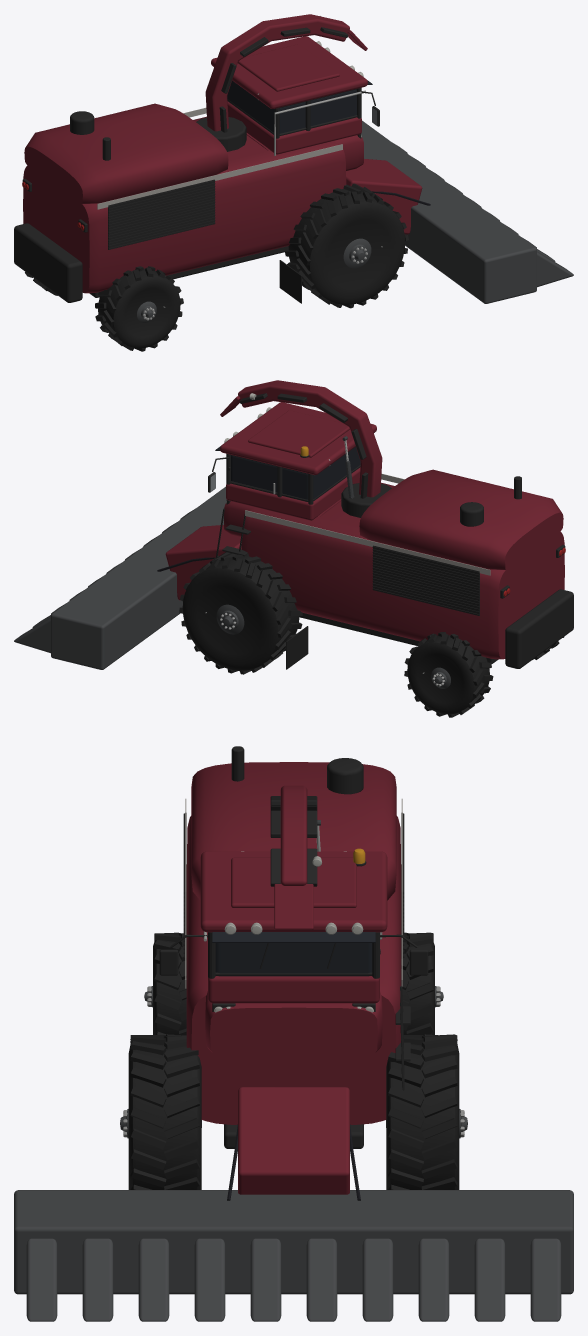
Rendered from SM_Prop_farm_forager_1.glb.
The picture shows the model from 3 angles, top to bottom: view 1: azimuth 30°, elevation 25°; view 2: azimuth 150°, elevation 25°; view 3: azimuth 270°, elevation 25°; orthographic projection. The views are drawn at different scales.
Visible parts, largest first — view 1: SM_Prop_farm_forager_1; view 2: SM_Prop_farm_forager_1; view 3: SM_Prop_farm_forager_1.
Boxes of the visible parts, <box> form: SM_Prop_farm_forager_1: <box>14,14,573,351</box>; SM_Prop_farm_forager_1: <box>14,380,573,717</box>; SM_Prop_farm_forager_1: <box>14,746,573,1321</box>.
Size of the model in its own units: 8.38 by 4.55 by 6.
